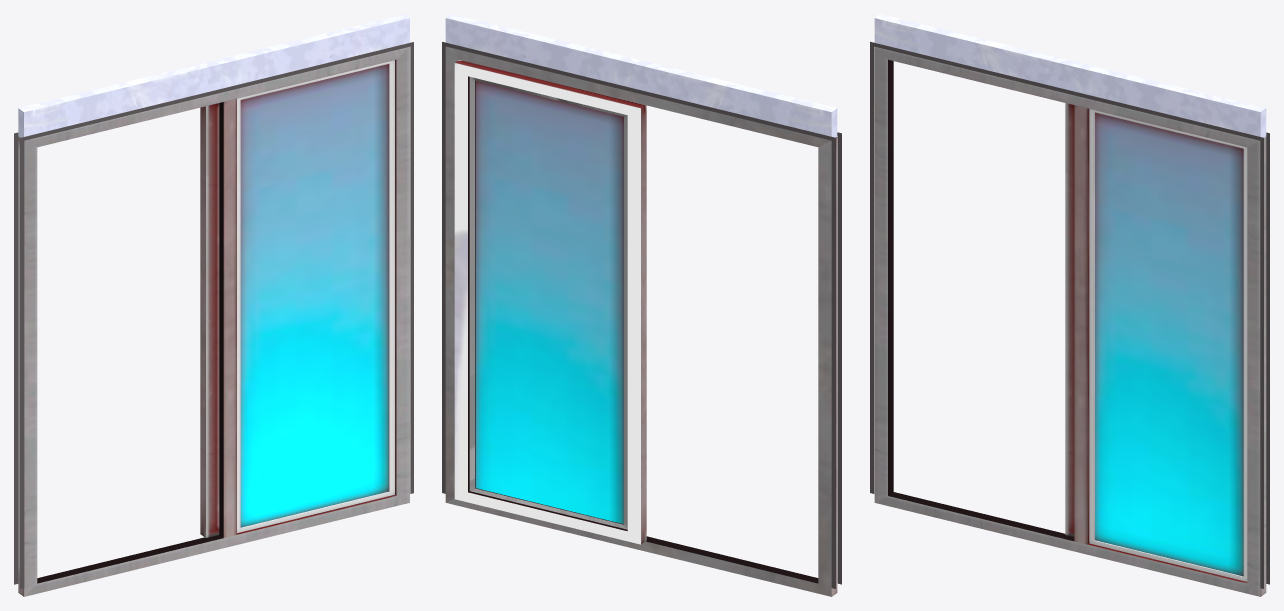
3 renders of one model, left to right at view 1: azimuth 30°, elevation 25°; view 2: azimuth 150°, elevation 25°; view 3: azimuth 330°, elevation 25°, orthographic.
Visible parts, largest first — view 1: SingleWall.009; view 2: SingleWall.009; view 3: SingleWall.009.
Part boxes in pixels (x1=…): SingleWall.009: x1=14, y1=14, x2=413, y2=596; SingleWall.009: x1=442, y1=14, x2=841, y2=596; SingleWall.009: x1=870, y1=14, x2=1269, y2=596.
Size of what is drawn, in the model's own units: 4.08 by 4.8 by 0.1865.
Materials: 1 (1 with a texture image).
